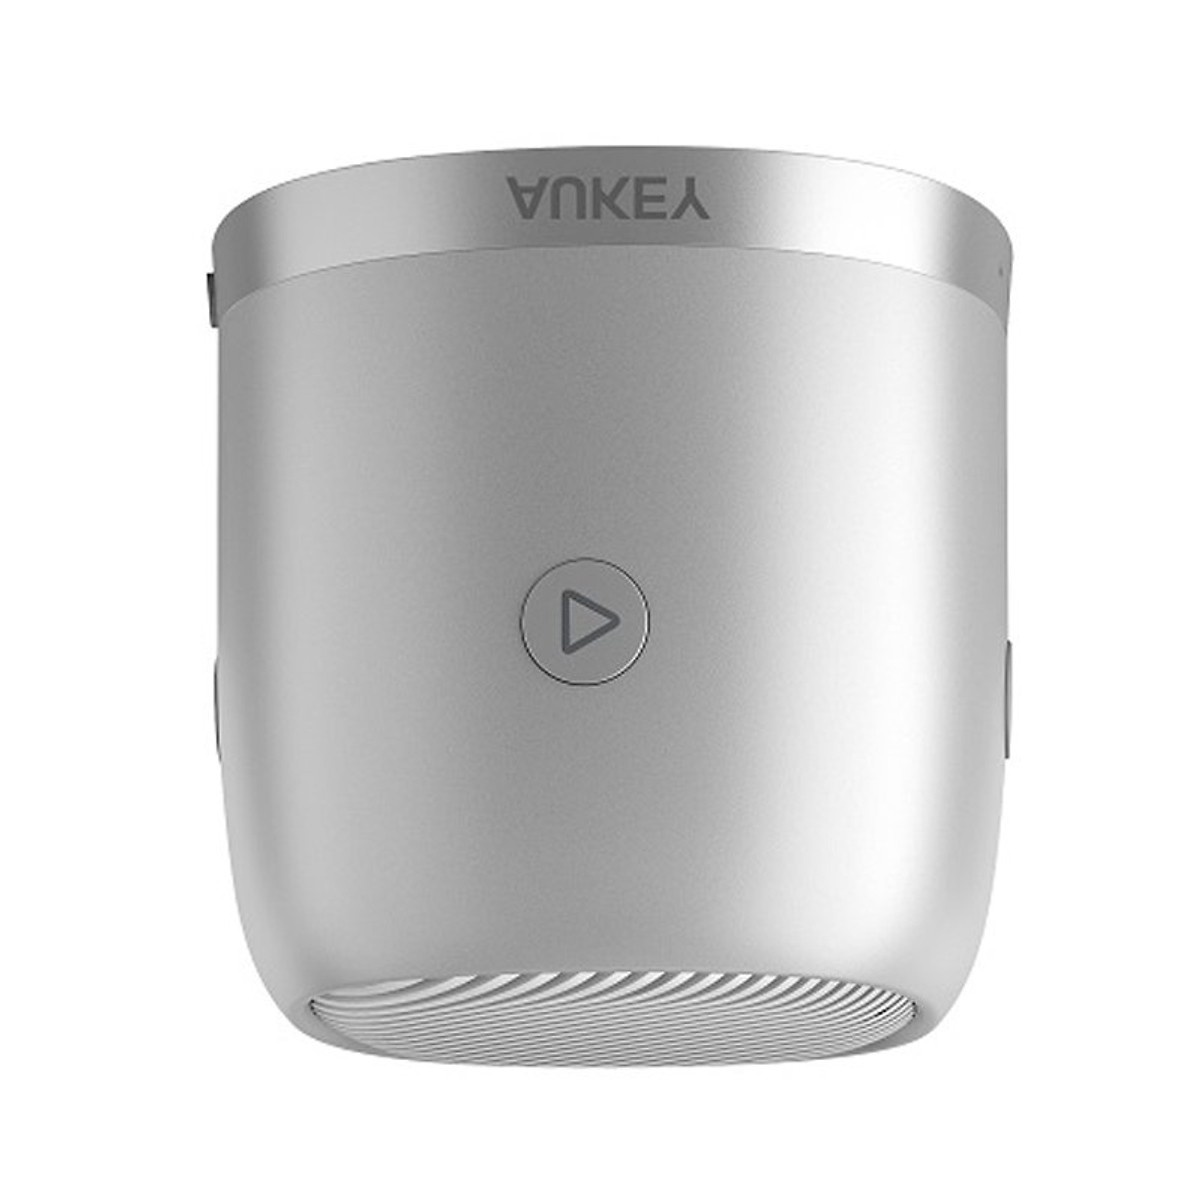Aukey: (407, 15, 925, 309)
